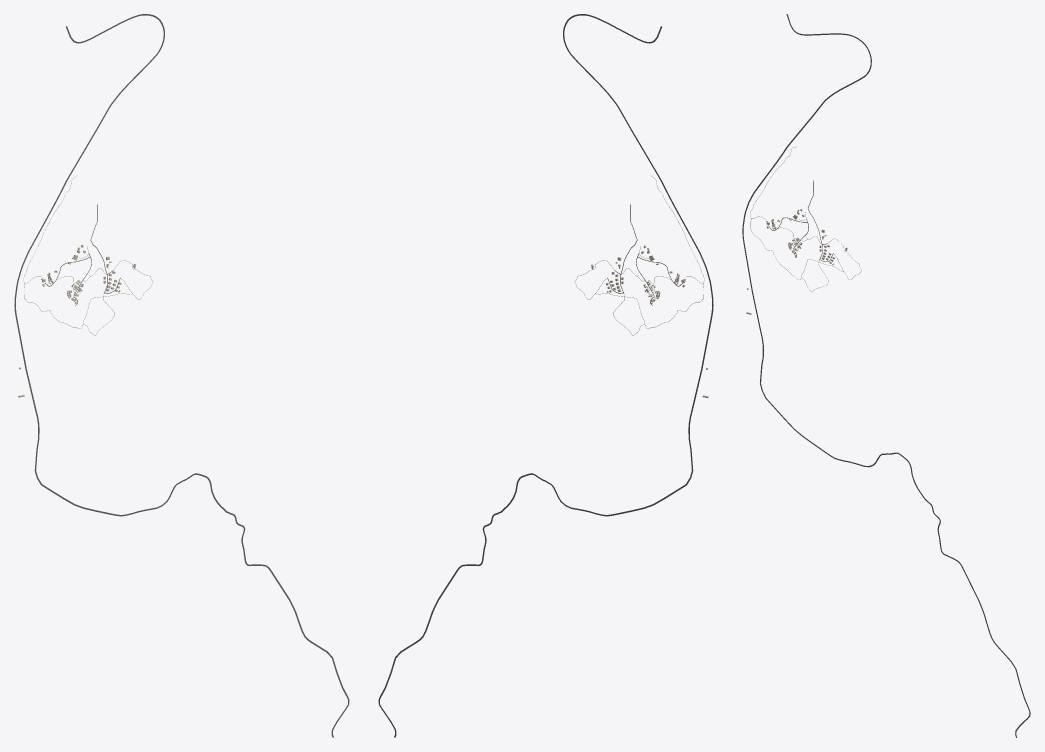
The model's file is historic-palestine-11_24_3531_3187.glb.
The picture shows the model from 3 angles, left to right: view 1: azimuth 30°, elevation 25°; view 2: azimuth 150°, elevation 25°; view 3: azimuth 330°, elevation 25°; orthographic projection. The views are drawn at different scales.
Visible parts, largest first — view 1: Road ציר אלון; view 2: Road ציר אלון; view 3: Road ציר אלון.
Part boxes in pixels (bbox=[...]): Road ציר אלון: bbox=[14, 14, 349, 737]; Road ציר אלון: bbox=[378, 14, 713, 737]; Road ציר אלון: bbox=[742, 14, 1030, 737].
Size of the model in its own units: 1921 by 4255 by 8.7.
